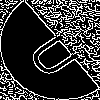U: (25, 25, 91, 82)
